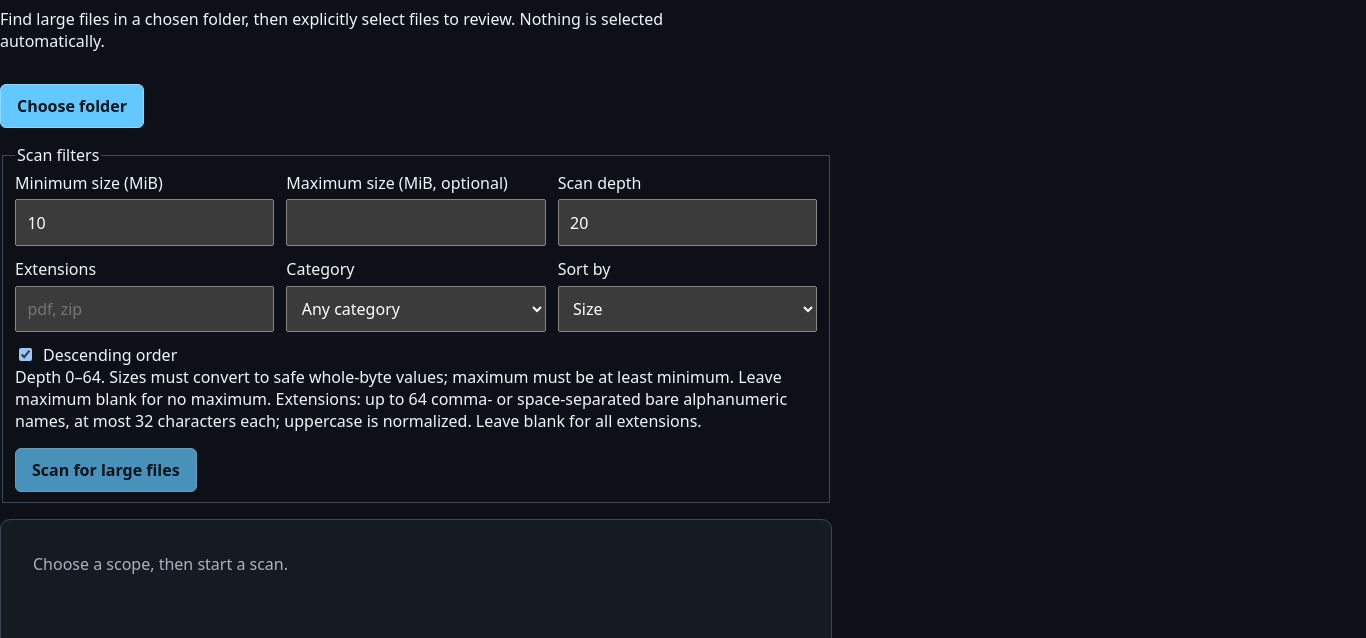
Test: replaces pages while preserving only explicit IDs; partial results do not claim globally largest files
Click the button "Choose folder" at {"x": 72, "y": 106}, box [0, 84, 144, 128]
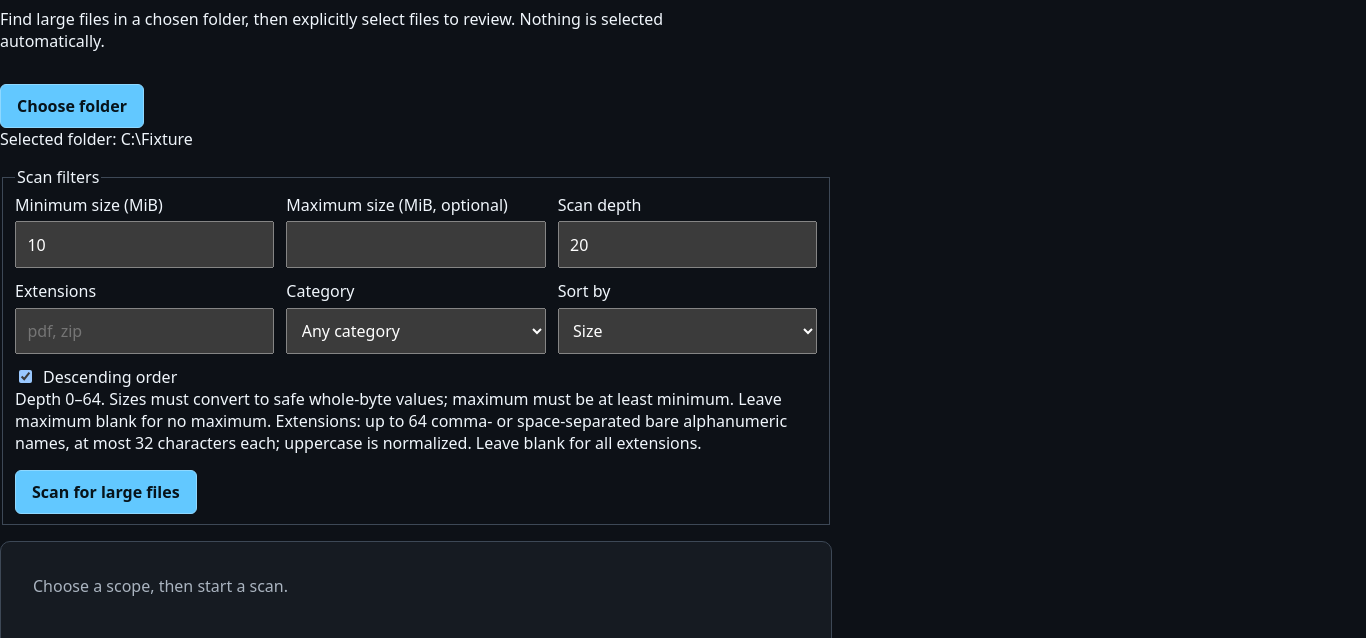
Check: the button "Scan for large files" is enabled
Click the button "Scan for large files" at {"x": 106, "y": 492}, box [15, 470, 197, 514]
(page scrolled)
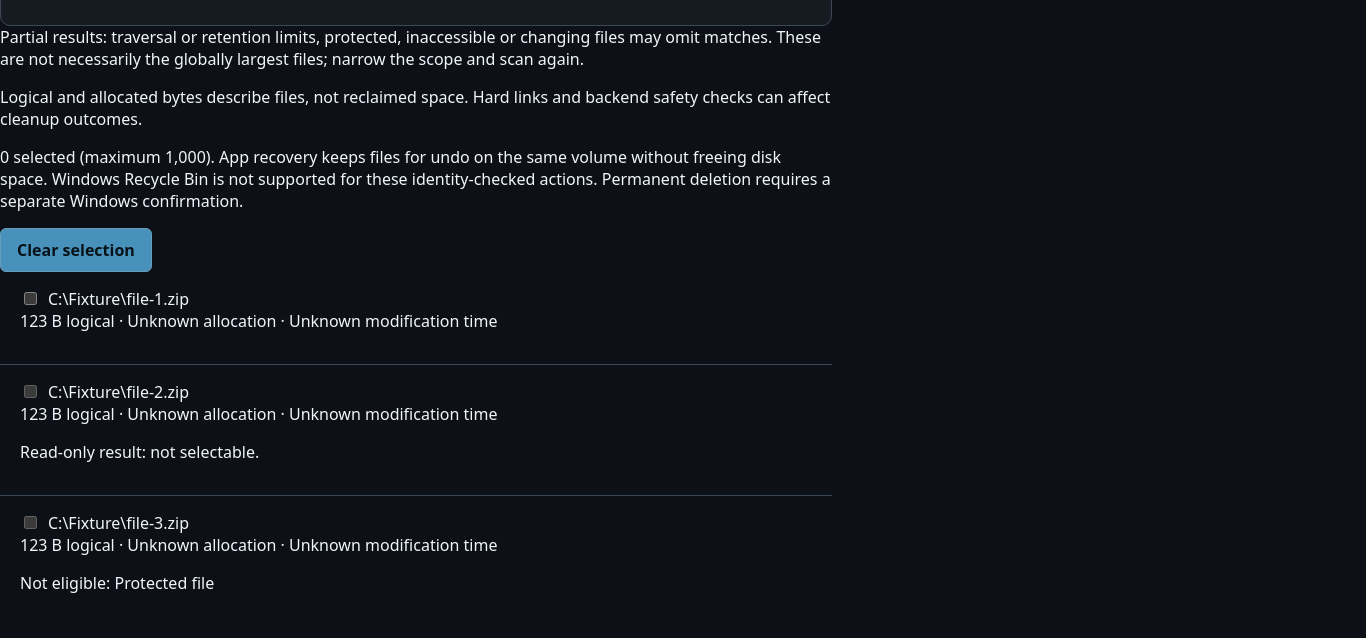
Check: the list named "Large file results" is shown, box [0, 272, 832, 626]
Click the checkbox labelled "C:\\Fixture\\file-1.zip" at {"x": 30, "y": 299}, box [24, 292, 37, 305]
(page scrolled)
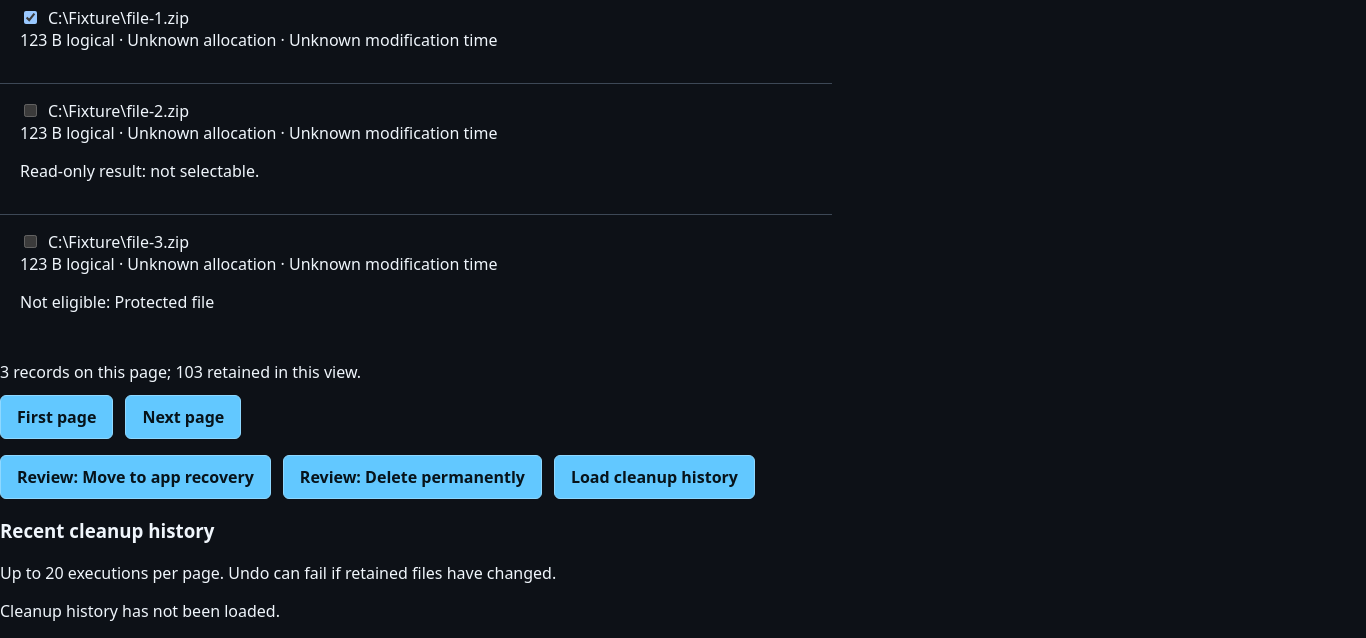
Click the button "Next page" at {"x": 183, "y": 417}, box [125, 395, 241, 439]
(page scrolled)
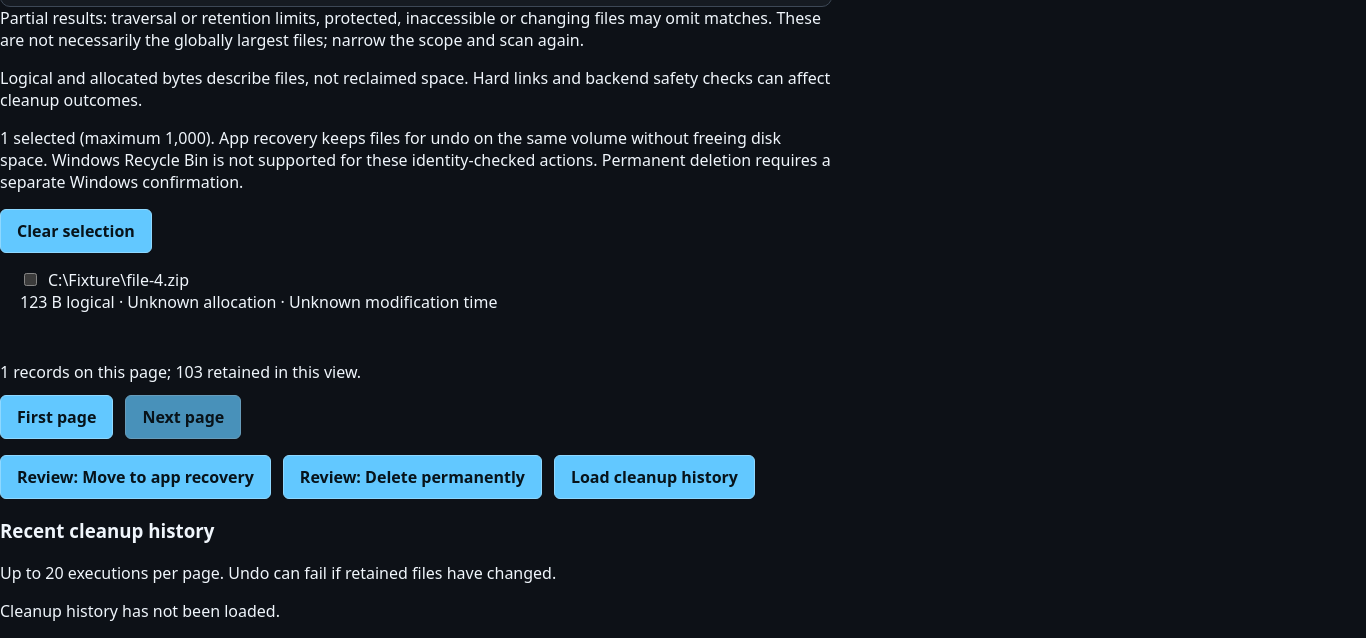
Check: the checkbox labelled "C:\\Fixture\\file-4.zip" is shown, box [24, 273, 37, 286]
Check: the text "1 selected (maximum" is shown, box [0, 127, 831, 193]
Check: the text "file-1.zip" is gone
Click the button "Review: Move to app recovery" at {"x": 135, "y": 477}, box [0, 455, 271, 499]
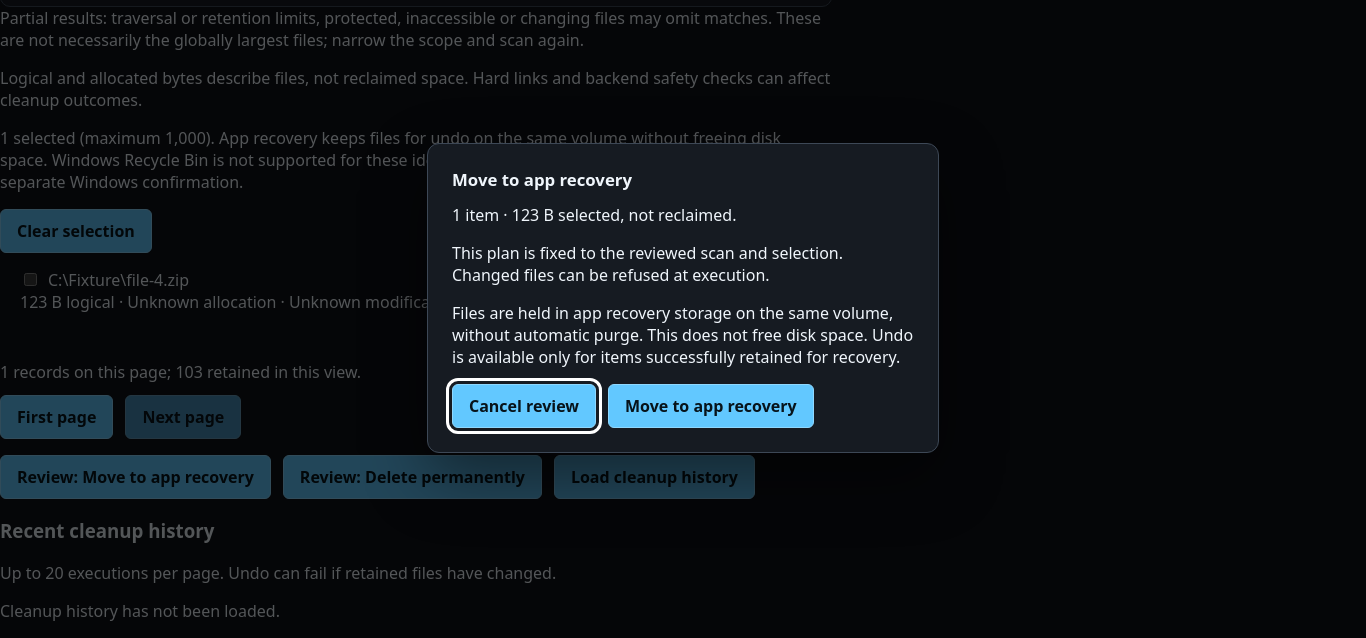
Check: the dialog is shown, box [427, 142, 939, 453]
